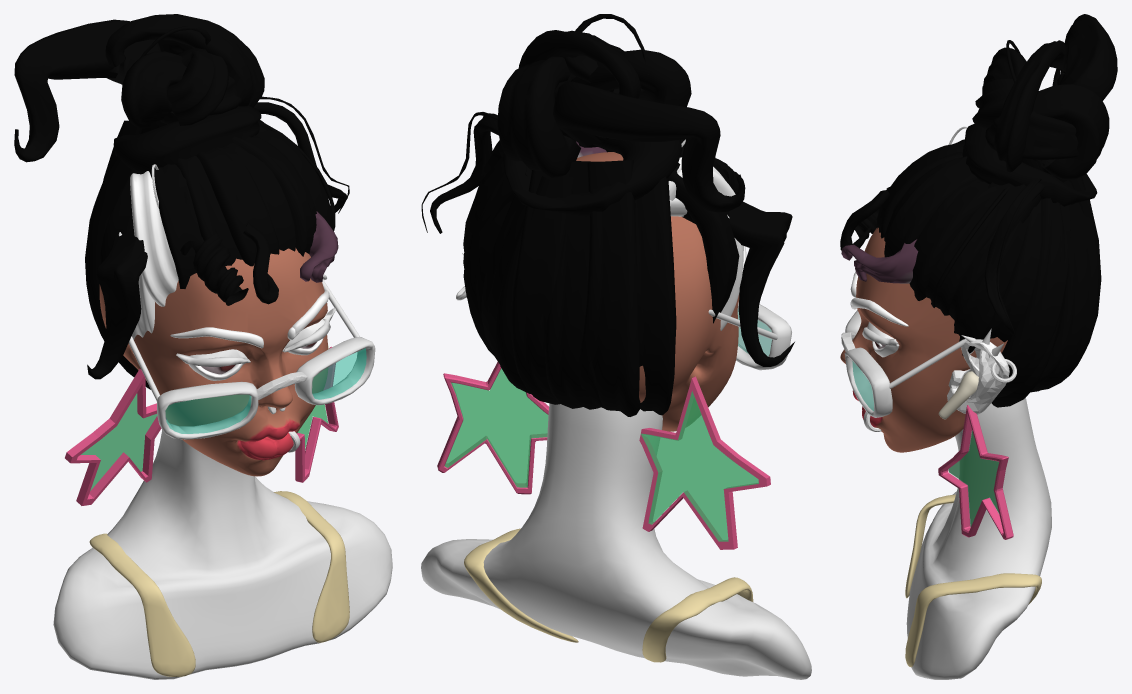
File: girl1.fbx
3 renders of one model, left to right at view 1: azimuth 30°, elevation 25°; view 2: azimuth 150°, elevation 25°; view 3: azimuth 270°, elevation 25°, orthographic. The views are drawn at different scales.
Visible parts, largest first — view 1: NurbsPath.047, Retopo_neck, Sphere, straps, Glasses.001, Plane.006, Plane.001, NurbsPath.008, Plane.003, Plane, Plane.004, eyelashesLast (+5 smaller); view 2: NurbsPath.047, Retopo_neck, Sphere, Plane.003, Plane.002, straps, Plane.001, Plane, Glasses.001, NurbsPath.037; view 3: NurbsPath.047, Retopo_neck, Sphere, straps, Plane, Glasses.001, ears.001, Plane.002, Cube.003, Plane.004, Glasses, Plane.006.
Part boxes in pixels (box(x1,y1,x2,y2)): NurbsPath.047: box(14, 14, 349, 389); Retopo_neck: box(53, 420, 392, 679); Sphere: box(99, 248, 328, 476); straps: box(89, 491, 349, 676); Glasses.001: box(157, 336, 375, 439); Plane.006: box(165, 348, 366, 433); Plane.001: box(65, 369, 166, 505); NurbsPath.008: box(130, 171, 178, 306); Plane.003: box(81, 393, 157, 490); Plane: box(295, 346, 338, 482); Plane.004: box(170, 290, 329, 348); eyelashesLast: box(176, 308, 336, 366); NurbsPath.047: box(421, 14, 794, 416); Retopo_neck: box(421, 403, 811, 679); Sphere: box(576, 152, 739, 431); Plane.003: box(641, 391, 758, 541); Plane.002: box(444, 368, 548, 487); straps: box(464, 528, 753, 662); Plane.001: box(639, 376, 770, 549); Plane: box(437, 361, 548, 494); Glasses.001: box(736, 302, 791, 370); NurbsPath.037: box(669, 198, 743, 330); NurbsPath.047: box(840, 14, 1117, 407); Retopo_neck: box(906, 397, 1051, 679); Sphere: box(840, 227, 1007, 452); straps: box(905, 494, 1041, 666); Plane: box(938, 405, 1013, 539); Glasses.001: box(844, 310, 892, 417); ears.001: box(947, 339, 1009, 414); Plane.002: box(948, 431, 998, 526); Cube.003: box(938, 371, 978, 419); Plane.004: box(850, 271, 908, 326); Glasses: box(889, 339, 967, 388); Plane.006: box(852, 361, 874, 410).
Bounding box in the file's own units: 305 × 525 × 226.
